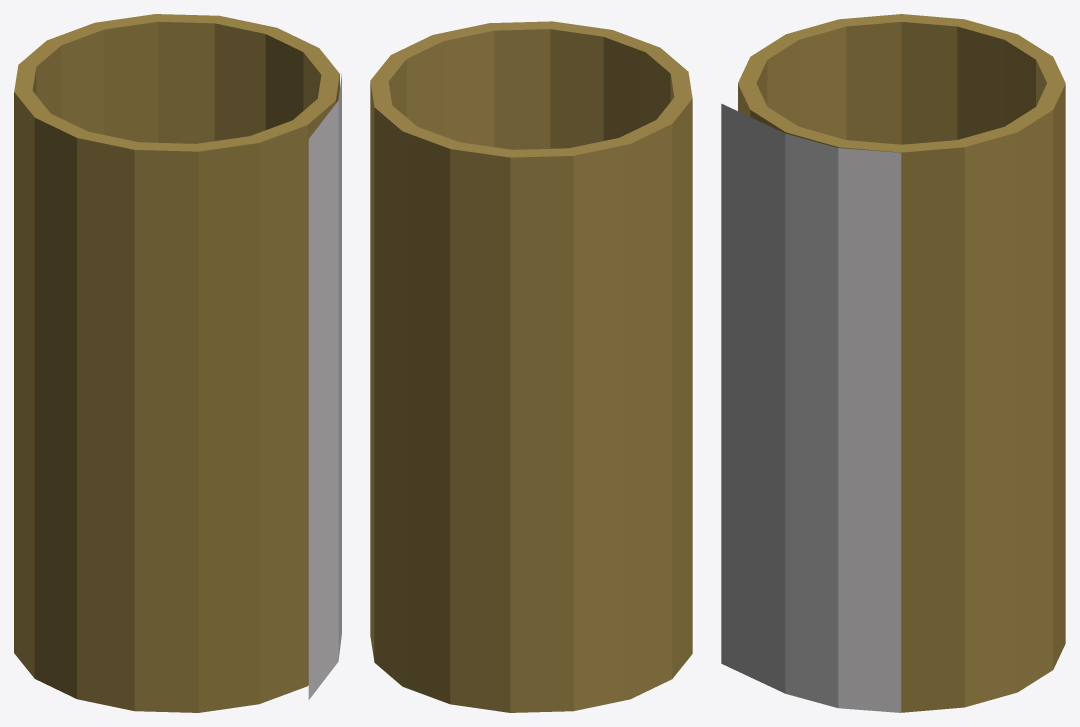
Rendered from item_toilet_paper_roll_empty.glb.
3 renders of one model, left to right at view 1: azimuth 30°, elevation 25°; view 2: azimuth 150°, elevation 25°; view 3: azimuth 270°, elevation 25°, orthographic.
Parts seen in each view (by area): view 1: ToiletPaperEmpty; view 2: ToiletPaperEmpty; view 3: ToiletPaperEmpty.
Boxes of the visible parts, x1,y1,x2,y2 form: ToiletPaperEmpty: (14, 14, 341, 712); ToiletPaperEmpty: (370, 21, 692, 712); ToiletPaperEmpty: (721, 14, 1065, 712).
Size of the model in its own units: 0.0754 by 0.1419 by 0.0791.
